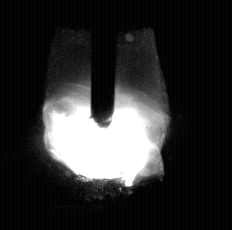arame: (91, 0, 116, 128)
poca: (44, 0, 170, 230)
